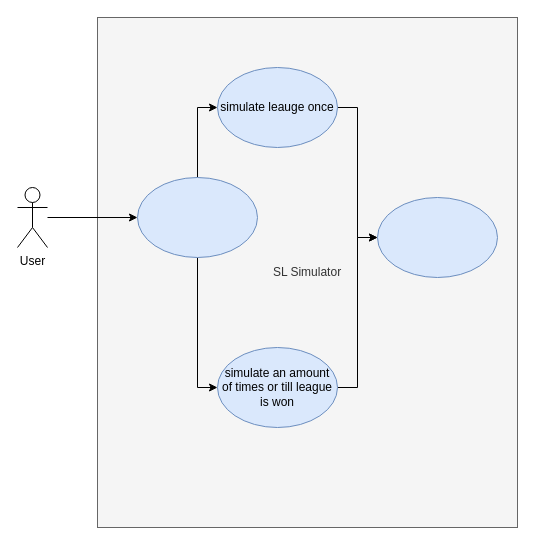
This 535x545 diagram has some shape labels left out. Each missing label, with the centre of its shape:
choose Team: point (197, 217)
show league tabel: point (437, 237)
